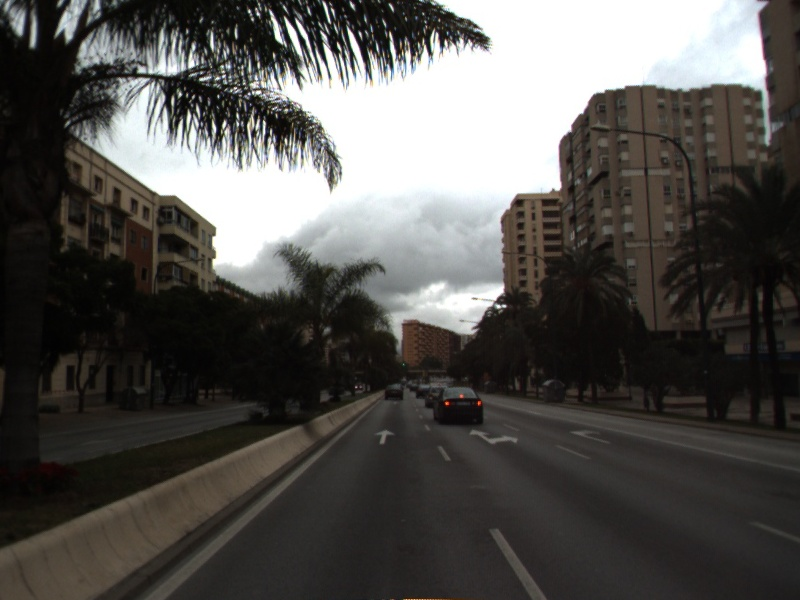RIGHT: (567, 427, 612, 446)
STRAIGHT: (373, 427, 397, 446)
STRAIGHT_RIGHT: (467, 426, 520, 446)
